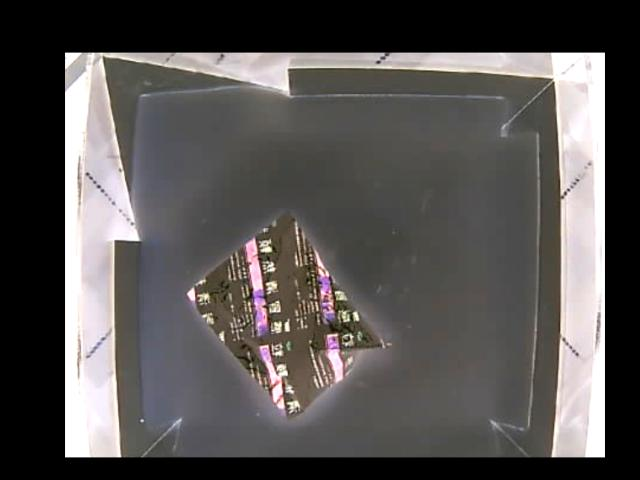Medicine: (186, 209, 395, 419)
